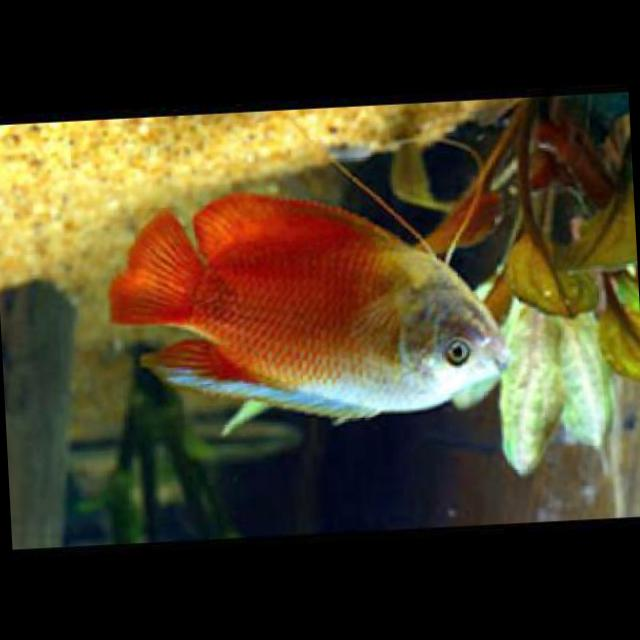Gourami: (98, 181, 513, 442)
